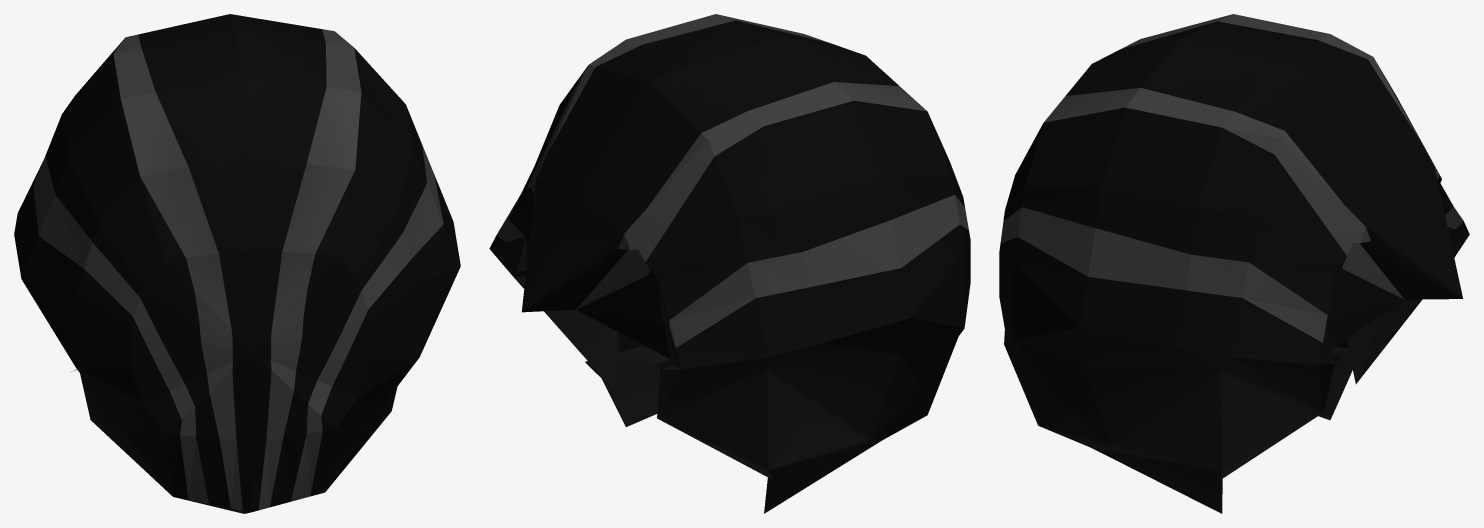
File: VAMPIRE WIG.fbx
The picture shows the model from 3 angles, left to right: view 1: azimuth 30°, elevation 25°; view 2: azimuth 150°, elevation 25°; view 3: azimuth 270°, elevation 25°; orthographic projection. The views are drawn at different scales.
Visible parts, largest first — view 1: VAMPIRE_WIG; view 2: VAMPIRE_WIG; view 3: VAMPIRE_WIG.
Boxes of the visible parts, x1,y1,x2,y2 form: VAMPIRE_WIG: (14,14,460,513); VAMPIRE_WIG: (489,14,970,513); VAMPIRE_WIG: (999,14,1469,513).
Bounding box in the file's own units: 26.77 × 26.94 × 26.8.
